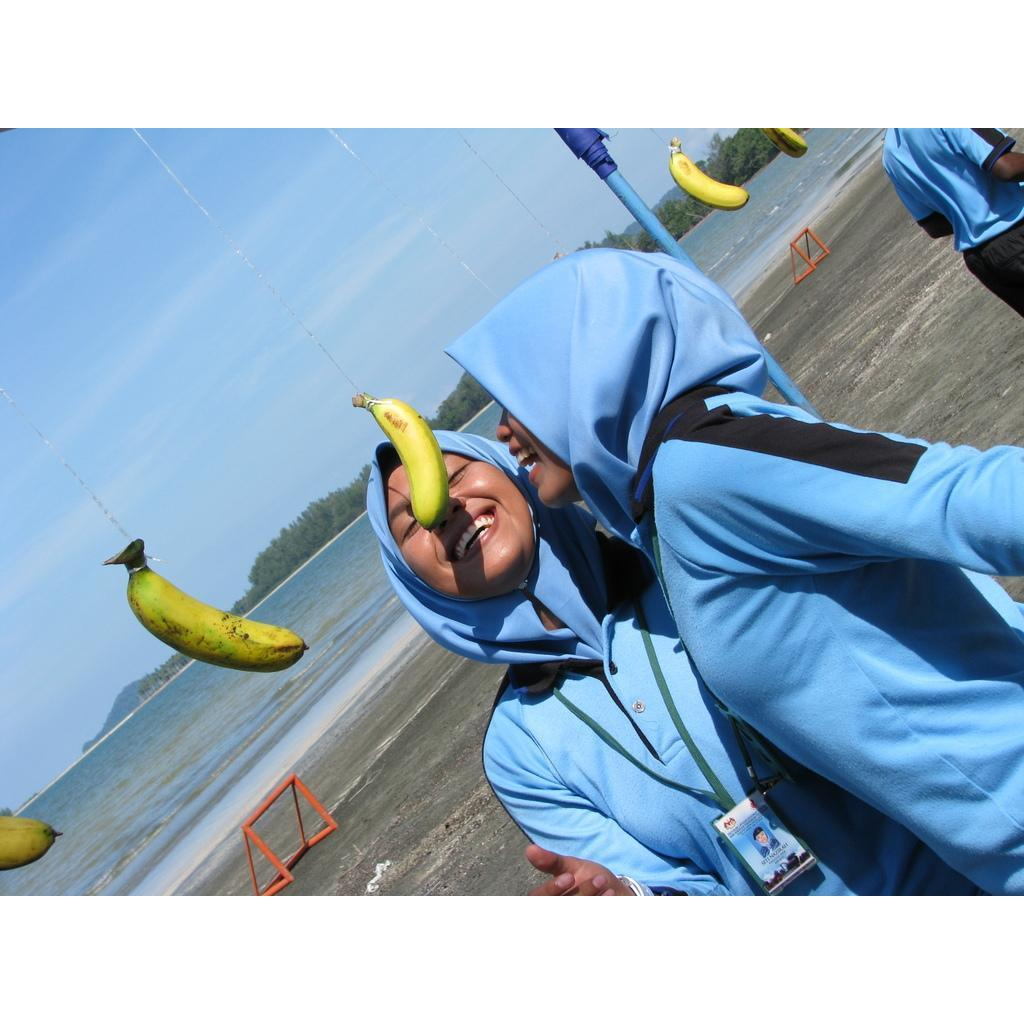banana: (105, 542, 307, 675), (352, 393, 450, 532), (669, 137, 750, 211)
